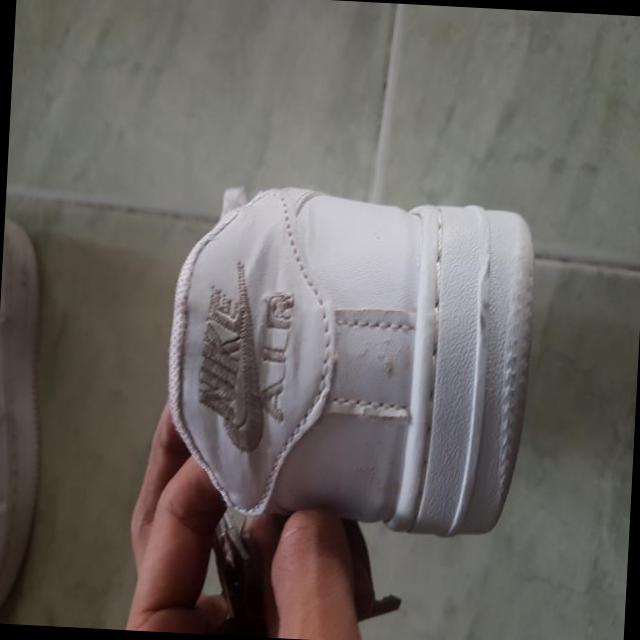nike_fake_airforce: (156, 180, 543, 540)
